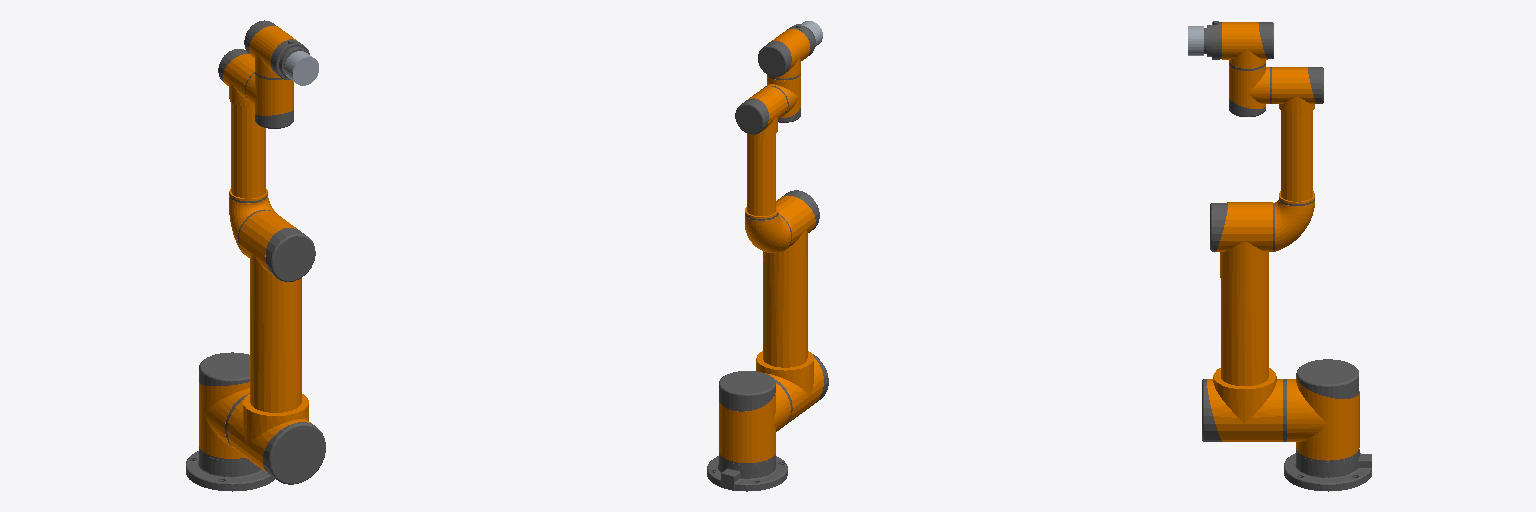
The robot description file, URDF, robot "aubo_i16":
<?xml version="1.0"?>
<robot name="aubo_i16">
  <dh_type type="modified"/>
  <safety_para singularity_consistent="0.02 0.01 10 0.2 0.045 10"/>
  <link name="base_link">
    <inertial>
      <origin xyz="-0.0002 0.0045 0.0193" rpy="0 0 0" />
      <mass value="1.0247" />
      <inertia ixx="0.0035" ixy="0.0000" ixz="0.0000" iyy="0.003" iyz="0.0001" izz="0.0061" />
    </inertial>
    <visual>
      <origin xyz="0 0 0" rpy="0 0 0" />
      <geometry>
        <mesh filename="package://aubo_i16_description/meshes/visual/link0.DAE" />
      </geometry>
    </visual>
    <collision>
      <origin xyz="0 0 0" rpy="0 0 0" />
      <geometry>
        <mesh filename="package://aubo_i16_description/meshes/collision/link0.STL" />
      </geometry>
    </collision>
  </link>


  <link name="shoulder_Link">
    <inertial>
      <origin xyz="0.0000 0.0042 -0.0278" rpy="0 0 0" />
      <mass value="11.1649" />
      <inertia ixx="0.0511" ixy="0.0000" ixz="0.0000" iyy="0.0498" iyz="0.0002" izz="0.0311" />
    </inertial>
    <visual>
      <origin xyz="0 0 0" rpy="0 0 0" />
      <geometry>
        <mesh filename="package://aubo_i16_description/meshes/visual/link1.DAE" />
      </geometry>
    </visual>
    <collision>
      <origin xyz="0 0 0" rpy="0 0 0" />
      <geometry>
        <mesh filename="package://aubo_i16_description/meshes/collision/link1.STL" />
      </geometry>
    </collision>
  </link>


  <joint name="shoulder_joint" type="revolute">
    <origin xyz="0 0 0.163" rpy="-8.7138E-17 -4.3534E-32 3.1416" />
    <parent link="base_link" />
    <child link="shoulder_Link" />
    <axis xyz="0 0 1" />
    <limit lower="-3.05" upper="3.05" effort="267" start_stop="411" velocity="3.1416" />
    <property inertia="4.9" damping="0" stiffness="0" offset="0" motor_constant="8.75" ratio="101"/>
  </joint>


  <link name="upperArm_Link">
    <inertial>
      <origin xyz="0.1664 0.0000 -0.0142" rpy="0 0 0" />
      <mass value="18.7946" />
      <inertia ixx="0.0657" ixy="0.0000" ixz="-0.0149" iyy="1.4279" iyz="0.0000" izz="1.4077" />
    </inertial>
    <visual>
      <origin xyz="0 0 0" rpy="0 0 0" />
      <geometry>
        <mesh filename="package://aubo_i16_description/meshes/visual/link2.DAE" />
      </geometry>
    </visual>
    <collision>
      <origin xyz="0 0 0" rpy="0 0 0" />
      <geometry>
        <mesh filename="package://aubo_i16_description/meshes/collision/link2.STL" />
      </geometry>
    </collision>
  </link>


  <joint name="upperArm_joint" type="revolute">
    <origin xyz="0 0.191 0" rpy="-1.5708 -1.5708 0" />
    <parent link="shoulder_Link" />
    <child link="upperArm_Link" />
    <axis xyz="0 0 1" />
    <limit lower="-3.05" upper="3.05" effort="267" start_stop="411" velocity="3.1416" />
    <property inertia="4.9" damping="0" stiffness="0" offset="0" motor_constant="8.75" ratio="101"/>
  </joint>


  <link name="foreArm_Link">
    <inertial>
      <origin xyz="0.282 0.0000 0.1059" rpy="0 0 0" />
      <mass value="3.9474" />
      <inertia ixx="0.05" ixy="0.0000" ixz="0.1161" iyy="0.4363" iyz="0.0000" izz="0.3908" />
    </inertial>
    <visual>
      <origin xyz="0 0 0" rpy="0 0 0" />
      <geometry>
        <mesh filename="package://aubo_i16_description/meshes/visual/link3.DAE" />
      </geometry>
    </visual>
    <collision>
      <origin xyz="0 0 0" rpy="0 0 0" />
      <geometry>
        <mesh filename="package://aubo_i16_description/meshes/collision/link3.STL" />
      </geometry>
    </collision>
  </link>


  <joint name="foreArm_joint" type="revolute">
    <origin xyz="0.480 0 0" rpy="3.1416 -4.5954E-17 -8.4328E-17" />
    <parent link="upperArm_Link" />
    <child link="foreArm_Link" />
    <axis xyz="0 0 1" />
    <limit lower="-3.05" upper="3.05" effort="133" start_stop="207" velocity="4.6600" />
    <property inertia="2.0" damping="0" stiffness="0" offset="0" motor_constant="8.72" ratio="101"/>
  </joint>


  <link name="wrist1_Link">
    <inertial>
      <origin xyz="0.0000 0.0155 -0.0013" rpy="0 0 0" />
      <mass value="2.5692" />
      <inertia ixx="0.0042" ixy="0.0000" ixz="0.0000" iyy="0.0022" iyz="0.0000" izz="0.0041" />
    </inertial>
    <visual>
      <origin xyz="0 0 0" rpy="0 0 0" />
      <geometry>
        <mesh filename="package://aubo_i16_description/meshes/visual/link4.DAE" />
      </geometry>
    </visual>
    <collision>
      <origin xyz="0 0 0" rpy="0 0 0" />
      <geometry>
        <mesh filename="package://aubo_i16_description/meshes/collision/link4.STL" />
      </geometry>
    </collision>
  </link>


  <joint name="wrist1_joint" type="revolute">
    <origin xyz="0.370 0 0" rpy="-3.1416 -1.4294E-15 1.5708" />
    <parent link="foreArm_Link" />
    <child link="wrist1_Link" />
    <axis xyz="0 0 1" />
    <limit lower="-3.05" upper="3.05" effort="49" start_stop="66" velocity="3.1416" />
    <property inertia="0" damping="0" stiffness="0" offset="0" motor_constant="8.81" ratio="101"/>
  </joint>


  <link name="wrist2_Link">
    <inertial>
      <origin xyz="0.0000 -0.0155 -0.0013" rpy="0 0 0" />
      <mass value="2.5692" />
      <inertia ixx="0.0042" ixy="0.0000" ixz="0.0000" iyy="0.0022" iyz="0.0000" izz="0.0041" />
    </inertial>
    <visual>
      <origin xyz="0 0 0" rpy="0 0 0" />
      <geometry>
        <mesh filename="package://aubo_i16_description/meshes/visual/link5.DAE" />
      </geometry>
    </visual>
    <collision>
      <origin xyz="0 0 0" rpy="0 0 0" />
      <geometry>
        <mesh filename="package://aubo_i16_description/meshes/collision/link5.STL" />
      </geometry>
    </collision>
  </link>


  <joint name="wrist2_joint" type="revolute">
    <origin xyz="0 0.1175 0" rpy="-1.5708 -7.0777E-16 -7.4101E-16" />
    <parent link="wrist1_Link" />
    <child link="wrist2_Link" />
    <axis xyz="0 0 1" />
    <limit lower="-3.05" upper="3.05" effort="49" start_stop="66" velocity="3.1416" />
    <property inertia="0" damping="0" stiffness="0" offset="0" motor_constant="8.814" ratio="101"/>
  </joint>


  <link name="wrist3_Link">
    <inertial>
      <origin xyz="0.0000 -0.0004 -0.017" rpy="0 0 0" />
      <mass value="0.203" />
      <inertia ixx="0.0042" ixy="0.0000" ixz="0.0000" iyy="0.0002" iyz="0.0000" izz="0.0002" />
    </inertial>
    <visual>
      <origin xyz="0 0 0" rpy="0 0 0" />
      <geometry>
        <mesh filename="package://aubo_i16_description/meshes/visual/link6.DAE" />
      </geometry>
    </visual>
    <collision>
      <origin xyz="0 0 0" rpy="0 0 0" />
      <geometry>
        <mesh filename="package://aubo_i16_description/meshes/collision/link6.STL" />
      </geometry>
    </collision>
  </link>


  <joint name="wrist3_joint" type="revolute">
    <origin xyz="0 -0.1035 0" rpy="1.5708 0 6.7283E-16" />
    <parent link="wrist2_Link" />
    <child link="wrist3_Link" />
    <axis xyz="0 0 1" />
    <limit lower="-3.05" upper="3.05" effort="49" start_stop="66" velocity="3.1416" />
    <property inertia="0" damping="0" stiffness="0" offset="0" motor_constant="8.814" ratio="101"/>
  </joint>

  <link name="ft_sensor_link">
    <inertial>
      <origin xyz="0 0 0" rpy="0 0 0" />
      <mass value="0.20" />
      <inertia ixx="0.00008" ixy="0.0" ixz="0.0" iyy="0.00008" iyz="0.0" izz="0.00012" />
    </inertial>
    <visual>
      <origin xyz="0 0 0" rpy="0 0 0" />
      <geometry>
        <cylinder radius="0.035" length="0.038" />
      </geometry>
      <material name="ft_sensor_gray">
        <color rgba="0.65 0.68 0.72 1.0" />
      </material>
    </visual>
    <collision>
      <origin xyz="0 0 0" rpy="0 0 0" />
      <geometry>
        <cylinder radius="0.035" length="0.038" />
      </geometry>
    </collision>
  </link>

  <joint name="ft_sensor_joint" type="fixed">
    <parent link="wrist3_Link" />
    <child link="ft_sensor_link" />
    <origin xyz="0 0 0.019" rpy="0 0 0" />
  </joint>

  <link name="ft_sensor_frame" />

  <joint name="ft_sensor_frame_joint" type="fixed">
    <parent link="ft_sensor_link" />
    <child link="ft_sensor_frame" />
    <origin xyz="0 0 0" rpy="0 0 0" />
  </joint>

  <link name="tcp" />

  <joint name="tcp_joint" type="fixed">
    <parent link="ft_sensor_link" />
    <child link="tcp" />
    <origin xyz="0 0 0.019" rpy="0 0 0" />
  </joint>

  <link name="world" />

  <joint name="world_joint" type="fixed">
    <parent link="world" />
    <child link = "base_link" />
    <origin xyz="0.0 0.0 0.0" rpy="0.0 0.0 0.0" />
  </joint>

</robot>

--- Render facts (derived) ---
3 views of the same robot in one strip: view 1: azimuth 30°, elevation 25°; view 2: azimuth 150°, elevation 25°; view 3: azimuth 270°, elevation 25° (orthographic).
Robot: aubo_i16 — 11 links, 10 joints (6 revolute, 4 fixed); root link world; default pose: every joint at zero.
Visible links, largest first — view 1: upperArm_Link, foreArm_Link, shoulder_Link, base_link, wrist1_Link, wrist2_Link, ft_sensor_link, wrist3_Link; view 2: upperArm_Link, foreArm_Link, shoulder_Link, base_link, wrist2_Link, wrist1_Link; view 3: upperArm_Link, shoulder_Link, foreArm_Link, base_link, wrist2_Link, wrist1_Link, wrist3_Link.
Link boxes in pixels (x1=…): upperArm_Link: x1=225, y1=210, x2=325, y2=484; foreArm_Link: x1=218, y1=49, x2=276, y2=251; shoulder_Link: x1=199, y1=352, x2=249, y2=460; base_link: x1=186, y1=449, x2=274, y2=491; wrist1_Link: x1=246, y1=72, x2=293, y2=128; wrist2_Link: x1=244, y1=20, x2=296, y2=77; ft_sensor_link: x1=284, y1=51, x2=318, y2=85; wrist3_Link: x1=272, y1=39, x2=309, y2=79; upperArm_Link: x1=756, y1=190, x2=828, y2=424; foreArm_Link: x1=735, y1=86, x2=790, y2=252; shoulder_Link: x1=719, y1=371, x2=790, y2=464; base_link: x1=707, y1=455, x2=787, y2=491; wrist2_Link: x1=758, y1=28, x2=810, y2=78; wrist1_Link: x1=765, y1=74, x2=800, y2=122; upperArm_Link: x1=1202, y1=202, x2=1286, y2=441; shoulder_Link: x1=1287, y1=359, x2=1359, y2=461; foreArm_Link: x1=1270, y1=67, x2=1323, y2=251; base_link: x1=1284, y1=449, x2=1371, y2=491; wrist2_Link: x1=1220, y1=22, x2=1273, y2=68; wrist1_Link: x1=1229, y1=63, x2=1269, y2=116; wrist3_Link: x1=1204, y1=21, x2=1219, y2=59.
Size in the robot's own frame: 0.21 by 0.4375 by 1.18 metres.
7 mesh visuals loaded from 7 distinct referenced files (7 Collada DAE).
